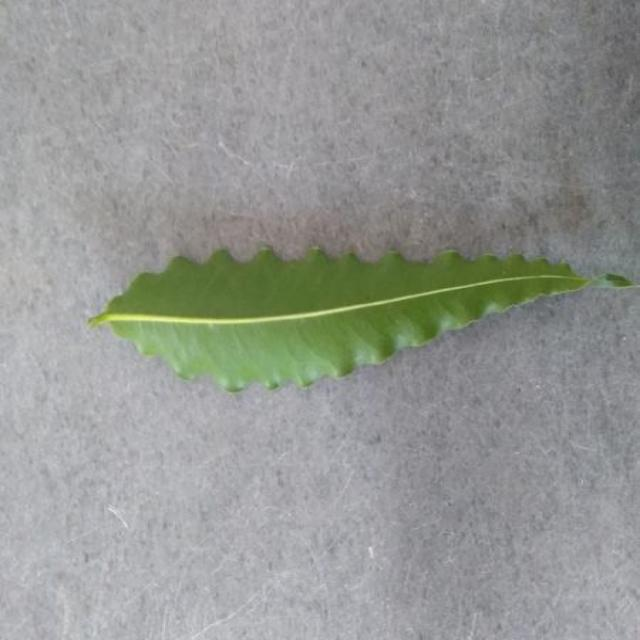ashoka: (92, 249, 593, 391)
